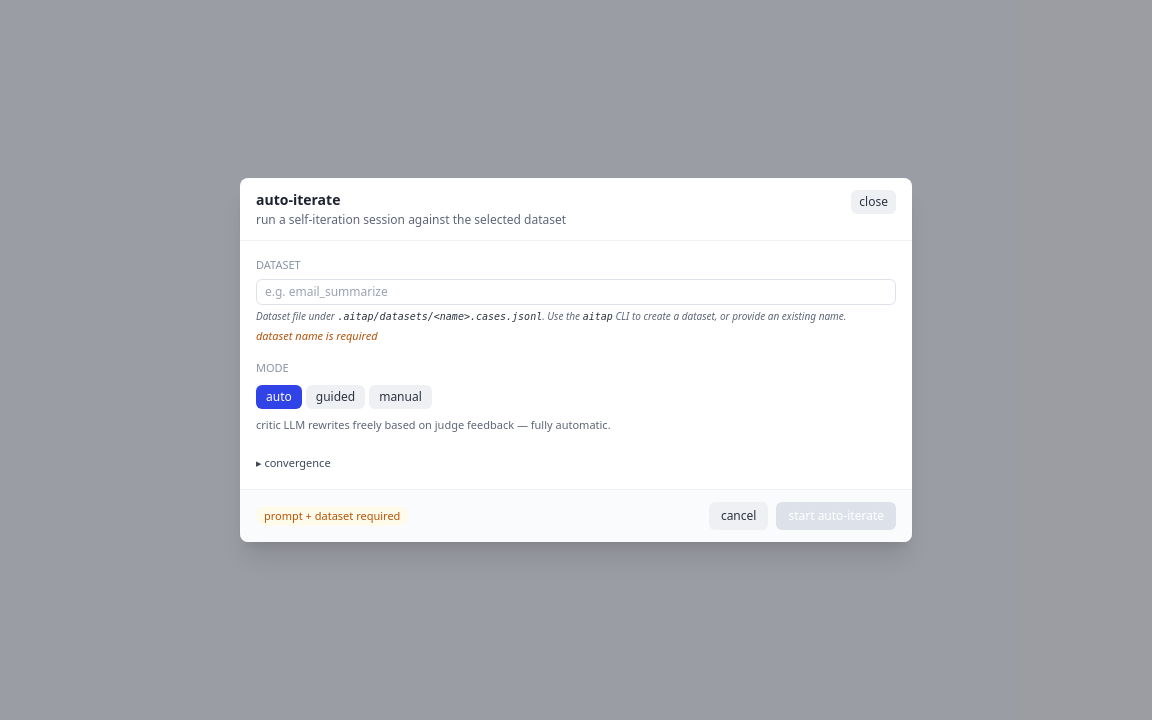
AutoIterateModal › disables Start when dataset id is missing (no initial seed)
The width and height of the screenshot is (1152, 720).
Check: the button "start auto-iterate" is disabled, box [776,502,896,530]
Check: the text "dataset name is required" is shown, box [256,328,378,342]
# Typing a dataset name enables Start.
Type "email_summarize" into the field labelled "dataset" at [576, 292], box [256,278,896,304]
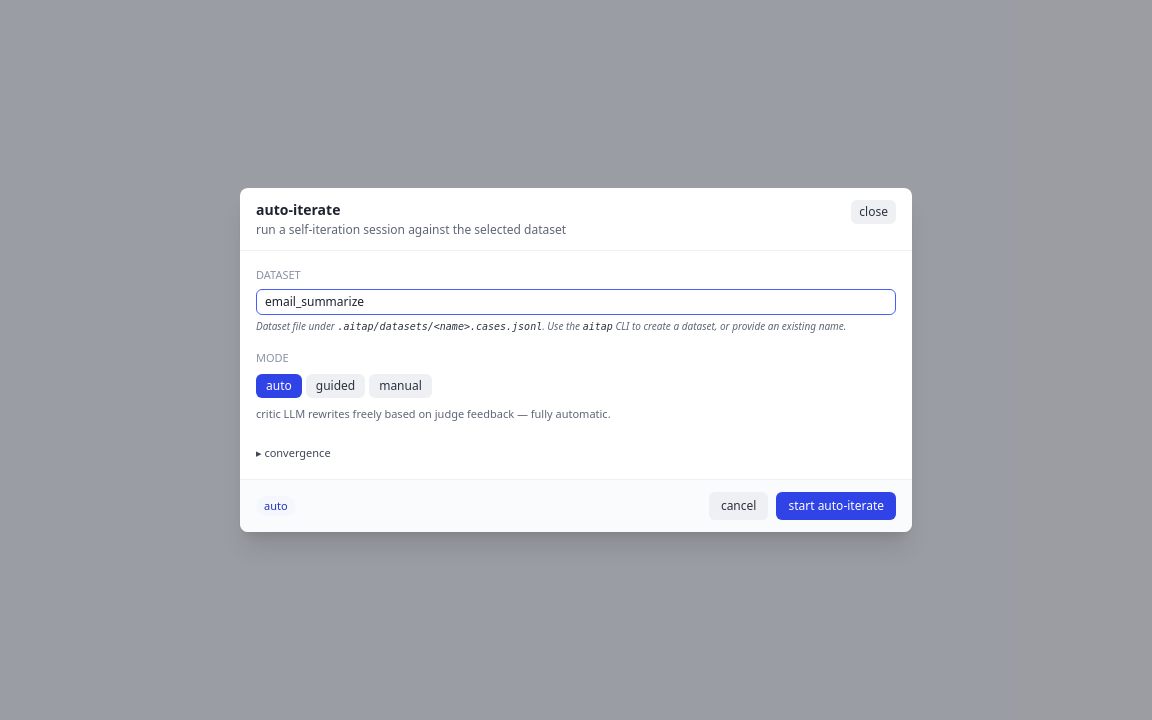
Check: the button "start auto-iterate" is enabled, box [776,492,896,520]
